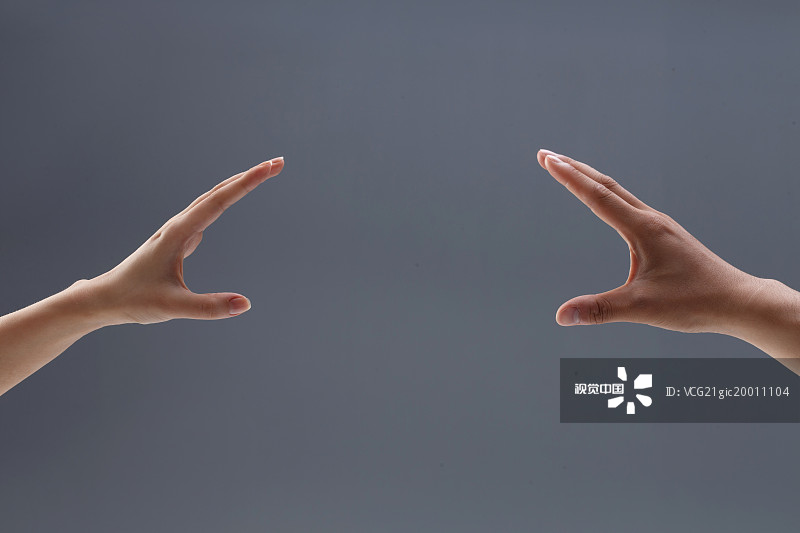no-phone: (495, 125, 769, 350), (74, 126, 304, 359)
